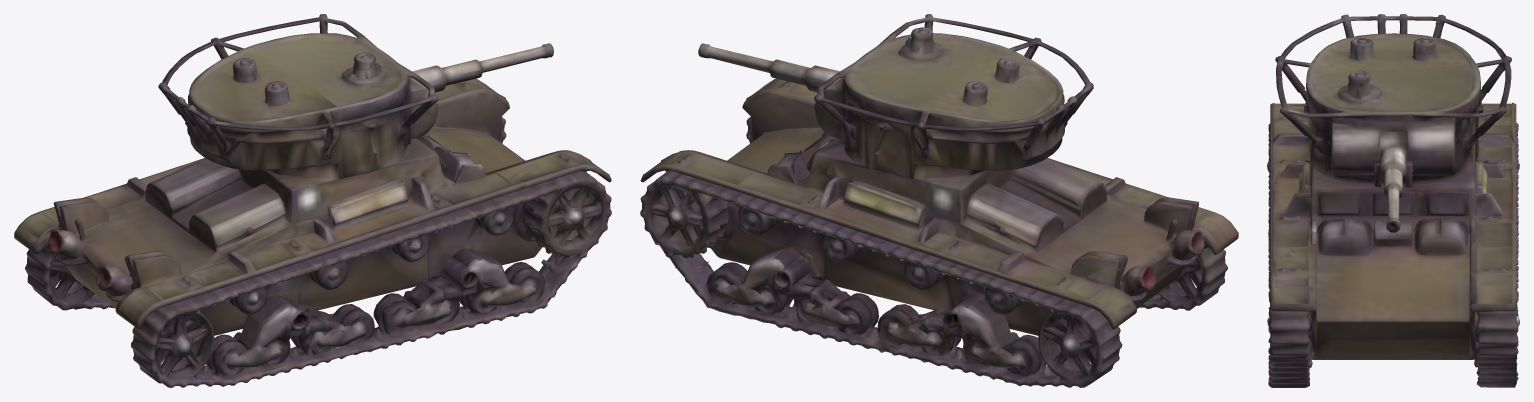
The model's file is t26_opt.glb.
3 renders of one model, left to right at view 1: azimuth 30°, elevation 25°; view 2: azimuth 150°, elevation 25°; view 3: azimuth 270°, elevation 25°, orthographic.
Visible parts, largest first — view 1: node_0; view 2: node_0; view 3: node_0.
Part boxes in pixels (x1=…): node_0: x1=14, y1=14, x2=611, y2=387; node_0: x1=640, y1=14, x2=1238, y2=387; node_0: x1=1267, y1=14, x2=1519, y2=387.
Size of the model in its own units: 1.08 by 0.5529 by 0.5049.
Materials: 1 (1 with a texture image).
